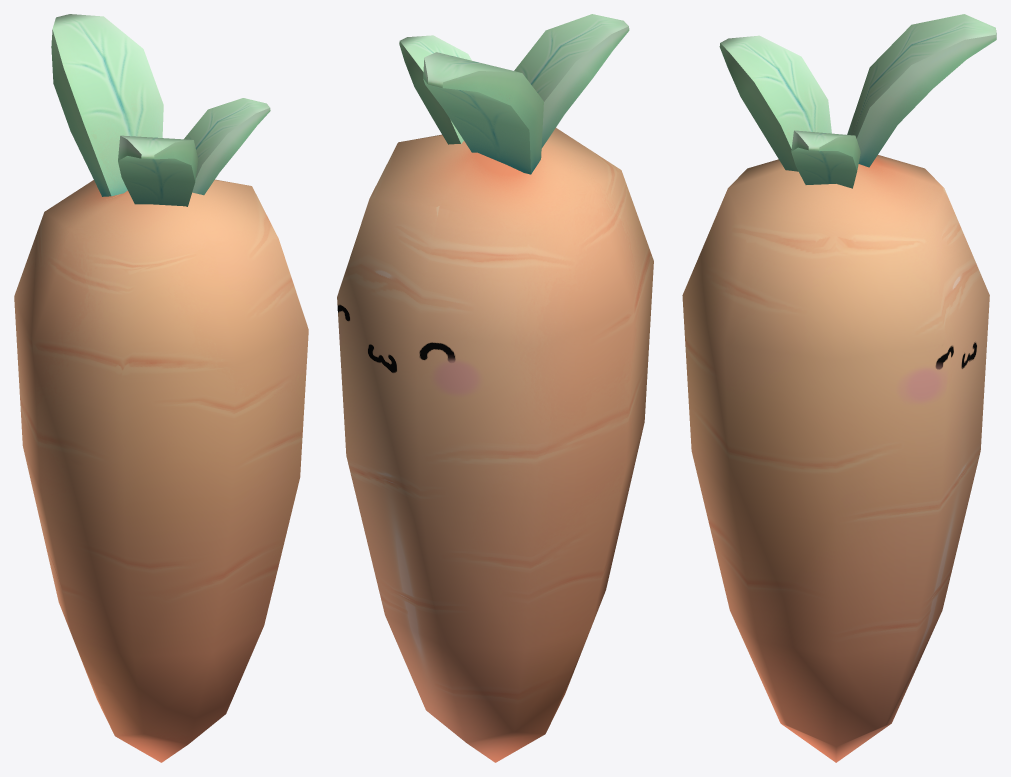
Rendered from carrot.fbx.
3 renders of one model, left to right at view 1: azimuth 30°, elevation 25°; view 2: azimuth 150°, elevation 25°; view 3: azimuth 270°, elevation 25°, orthographic. The views are drawn at different scales.
Visible parts, largest first — view 1: Carrot, Leaf01, Leaf02, Leaf03; view 2: Carrot, Leaf01, Leaf02, Leaf03; view 3: Carrot, Leaf01, Leaf02, Leaf03.
Boxes of the visible parts, left/top/right/bottom form: Carrot: left=14, top=179, right=308, bottom=762; Leaf01: left=51, top=14, right=163, bottom=196; Leaf02: left=118, top=135, right=198, bottom=206; Leaf03: left=184, top=98, right=270, bottom=195; Carrot: left=337, top=128, right=653, bottom=762; Leaf01: left=423, top=52, right=543, bottom=174; Leaf02: left=514, top=14, right=629, bottom=148; Leaf03: left=399, top=35, right=471, bottom=144; Carrot: left=682, top=155, right=989, bottom=762; Leaf01: left=847, top=14, right=996, bottom=167; Leaf02: left=719, top=35, right=831, bottom=171; Leaf03: left=791, top=130, right=860, bottom=188.
Bounding box in the file's own units: 23.64 × 61.52 × 24.15.
